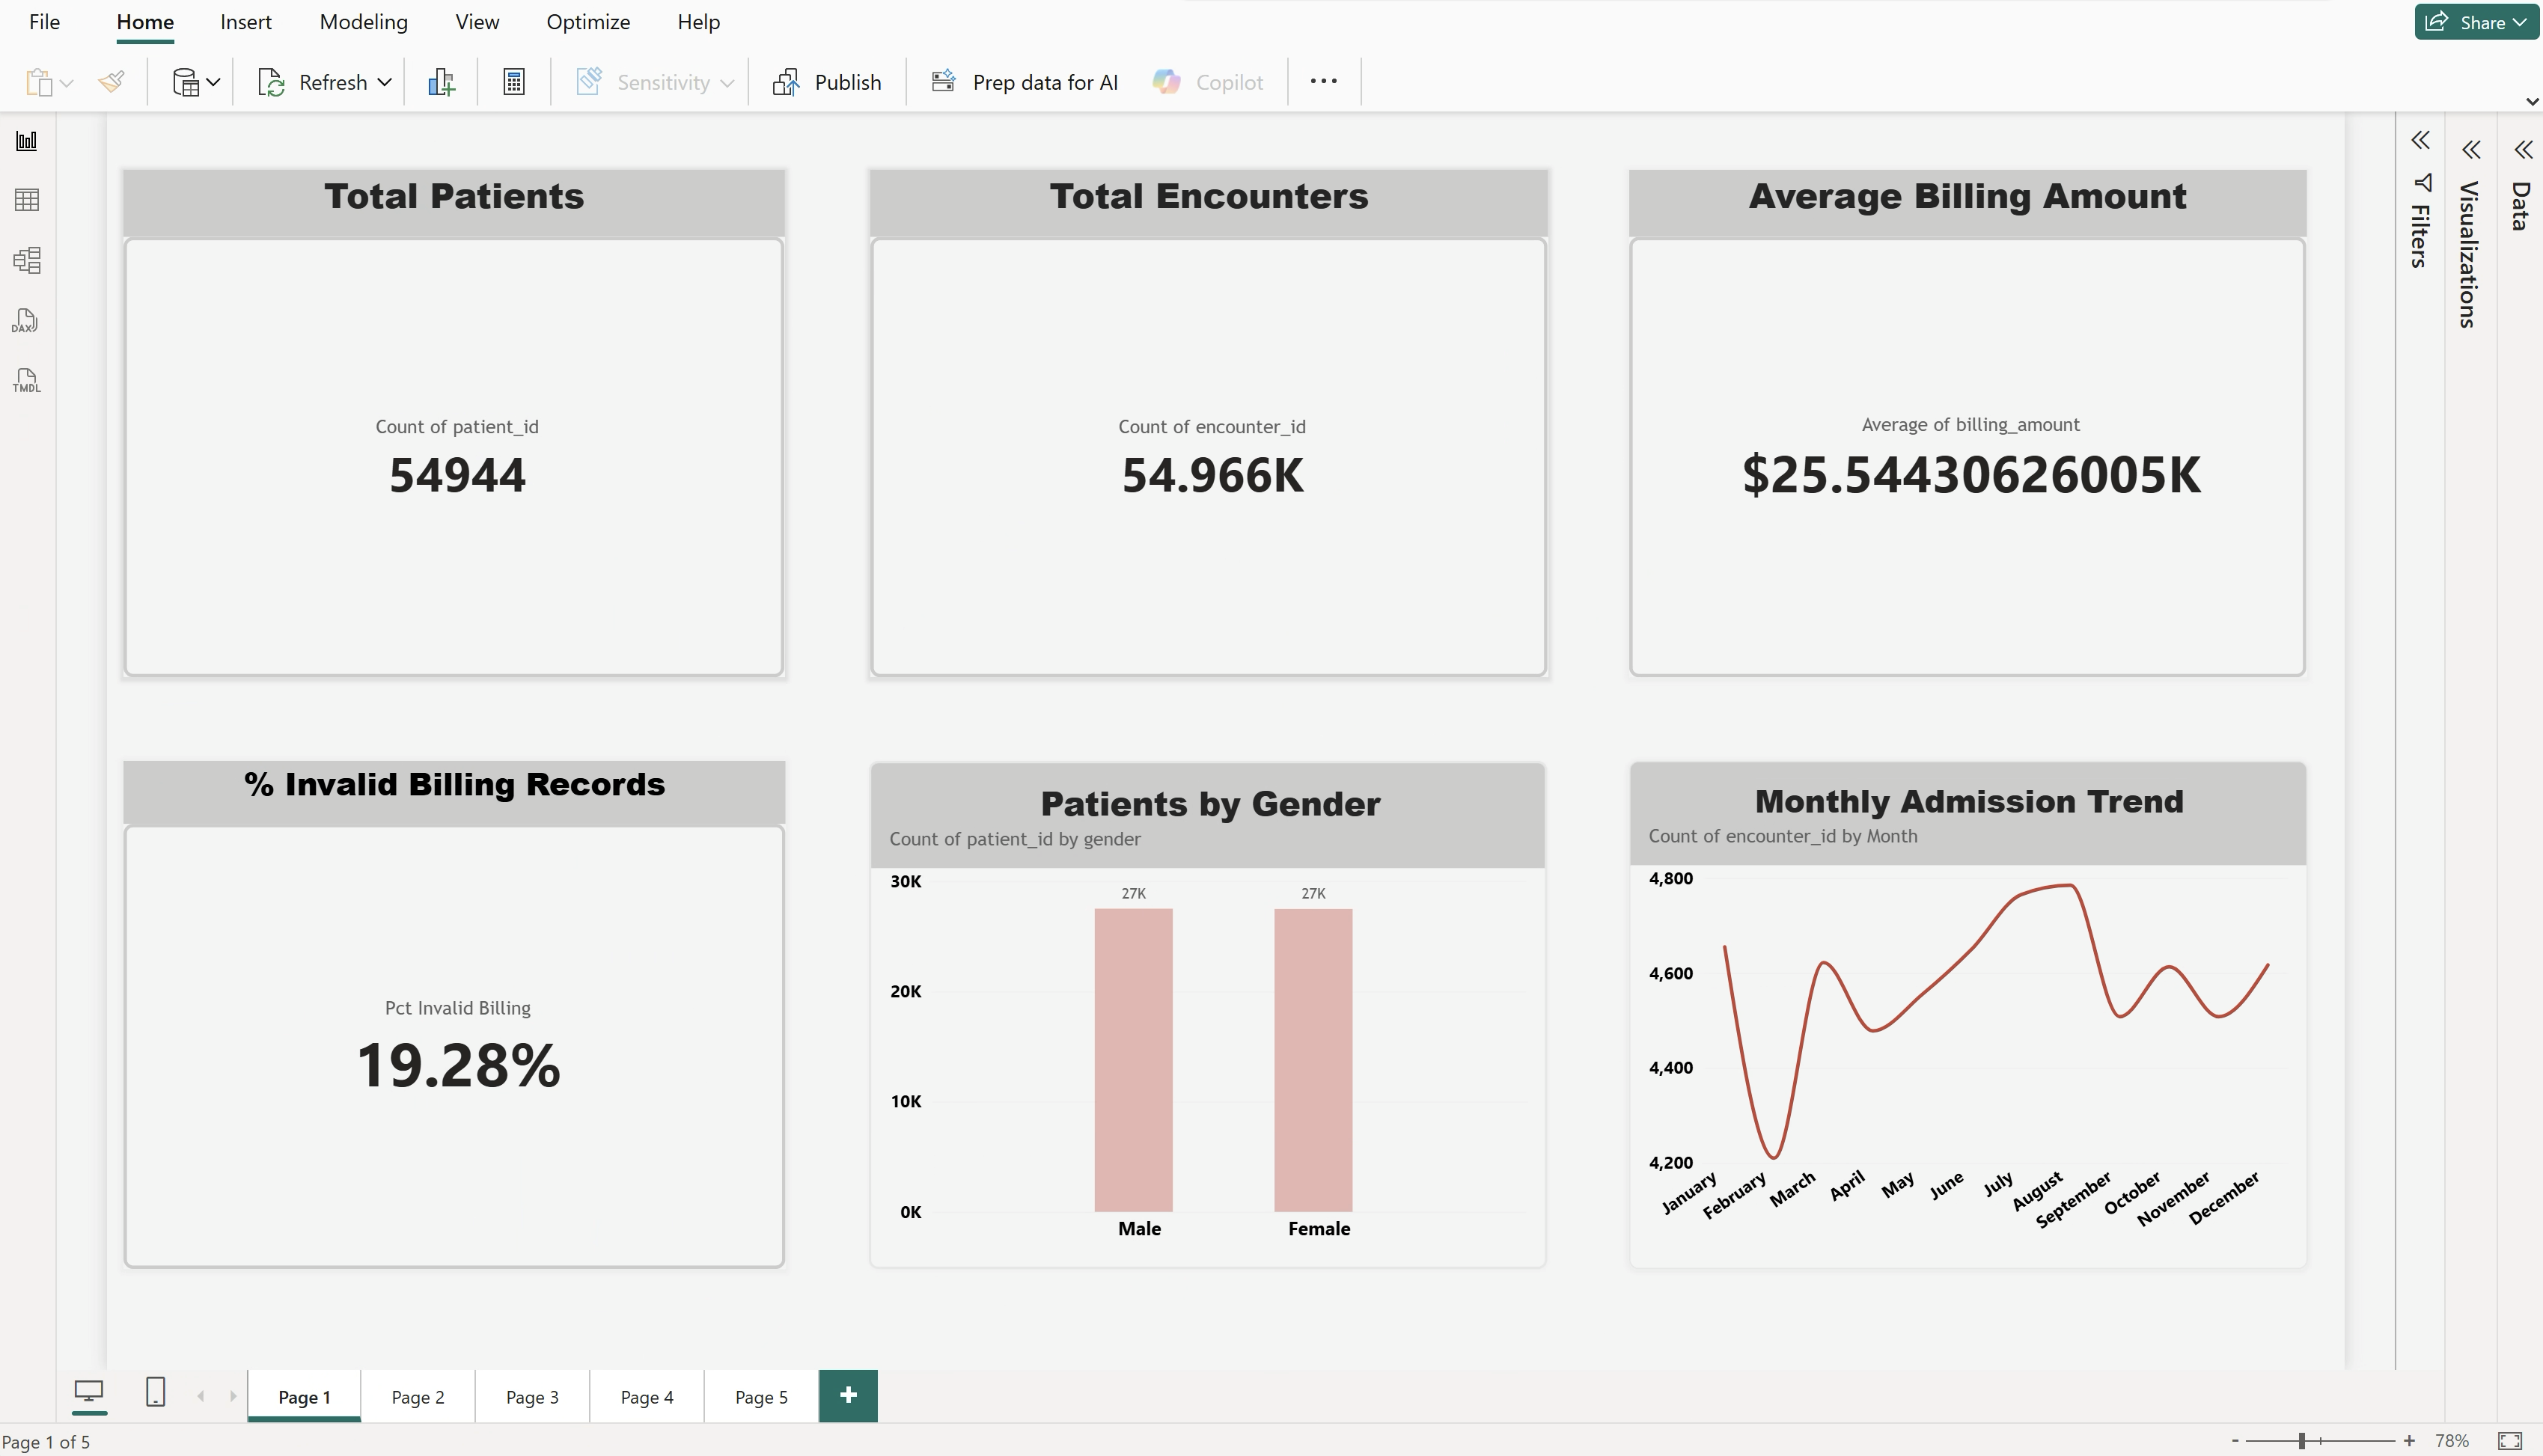

What the dashboard file says about the page in this screenshot:
{"tool":"powerbi","page":{"name":"Page 1","canvas":[1920,1080],"ordinal":0},"visuals":[{"type":"cardVisual","title":"Total Patients","fields":{"Data":["CountNonNull(patients_rows.patient_id)"]},"box":[13.9,50.3,567.7,435.7],"z":0},{"type":"cardVisual","title":"Total Encounters","fields":{"Data":["CountNonNull(encounters_rows.encounter_id)"]},"box":[654.5,50.3,581.6,435.7],"z":1},{"type":"cardVisual","title":"Average Billing Amount","fields":{"Data":["Avg(encounters_rows.billing_amount)"]},"box":[1305.5,50.3,581.6,435.7],"z":2},{"type":"cardVisual","title":"% Invalid Billing Records","fields":{"Data":["encounters_rows.Pct Invalid Billing"]},"box":[13.9,557.3,568,436],"z":3},{"type":"clusteredColumnChart","title":"Patients by Gender","fields":{"Category":["patients_rows.gender"],"Y":["CountNonNull(patients_rows.patient_id)"]},"box":[654,557,582,436],"z":4},{"type":"lineChart","title":"Monthly Admission Trend","fields":{"Category":["encounters_rows.date_of_admission.Variation.Date Hierarchy.Month"],"Y":["CountNonNull(encounters_rows.encounter_id)"]},"box":[1305.5,557.3,582,436],"z":5}]}

Visuals, with their boxes on the page's 1920x1080 design canvas (x1, y1, x2, y2). These are canvas units, not pixel positions in the 2543x1456 screenshot, which may show the page scaled, cropped or inside an application window:
"Total Patients" cardVisual: box=[14, 50, 582, 486]
"Total Encounters" cardVisual: box=[654, 50, 1236, 486]
"Average Billing Amount" cardVisual: box=[1306, 50, 1887, 486]
"% Invalid Billing Records" cardVisual: box=[14, 557, 582, 993]
"Patients by Gender" clusteredColumnChart: box=[654, 557, 1236, 993]
"Monthly Admission Trend" lineChart: box=[1306, 557, 1888, 993]
